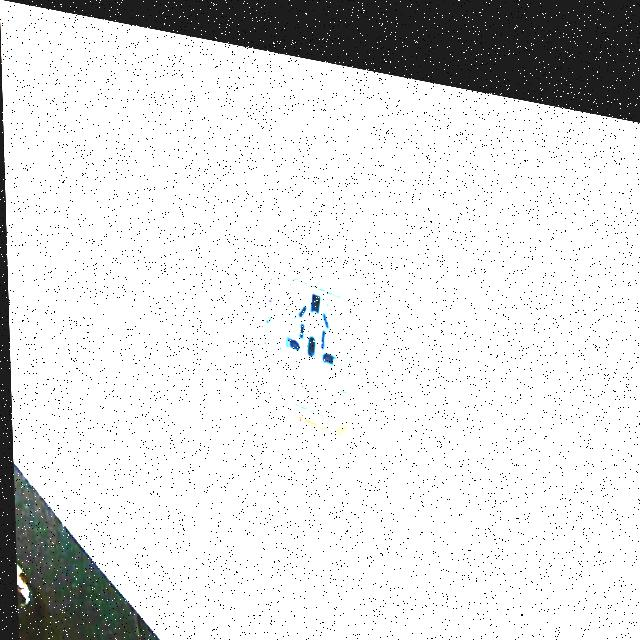adapter: (257, 253, 361, 422)
